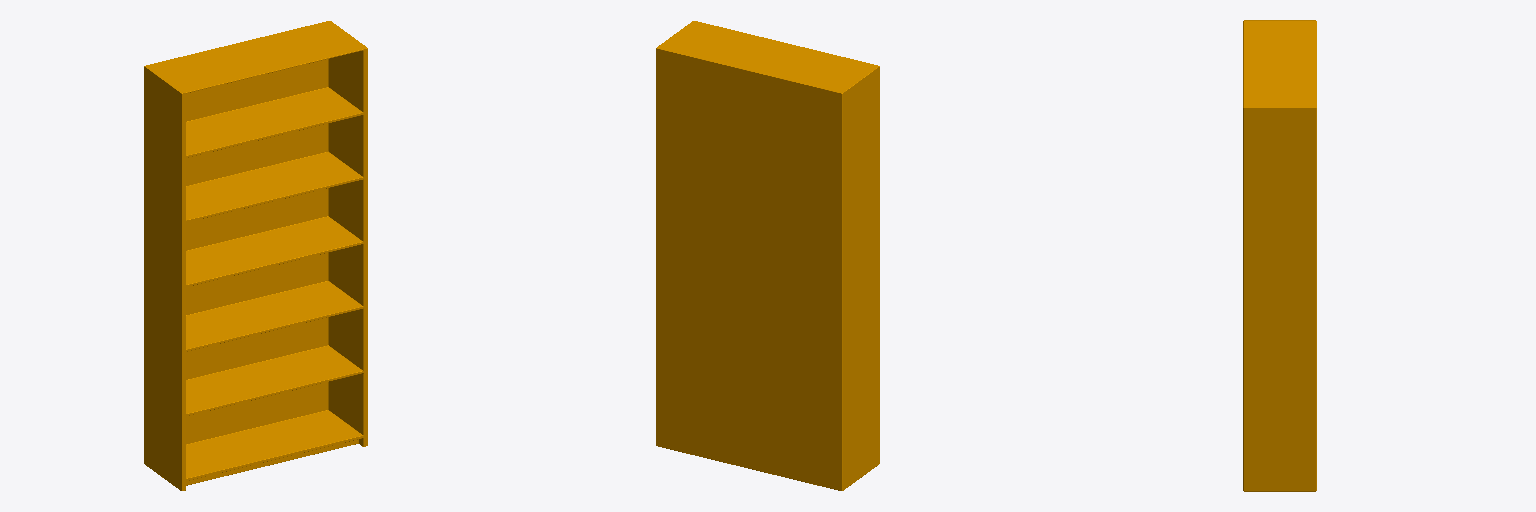
The robot description file, URDF, robot "mesh_object":
<?xml version="1.0" ?>
<robot name="mesh_object">
  <link name="base">
    <visual>
      <geometry>
        <mesh filename="bookcase_3.obj" scale="1 1 1"/>
      </geometry>
    </visual>
    <collision>
      <geometry>
        <mesh filename="bookcase_3.obj" scale="1 1 1"/>
      </geometry>
    </collision>
    <inertial>
      <origin xyz="-0.001004 0.002116 0.104835" rpy="0 0 0"/>
      <mass value="0.5"/>
      <inertia ixx="0.01" iyy="0.01" izz="0.01" ixy="0" ixz="0" iyz="0"/>
    </inertial>
  </link>
</robot>

--- Facts derived from the render (not from the file) ---
3 views of the same robot in one strip: view 1: azimuth 30°, elevation 25°; view 2: azimuth 150°, elevation 25°; view 3: azimuth 270°, elevation 25° (orthographic).
Model mesh_object with 1 links and 0 joints (none), rooted at base, posed all joints at 0.
Visible links, largest first — view 1: base; view 2: base; view 3: base.
Link boxes in pixels (box(x1,y1,x2,y2)): base: box(144, 21, 367, 490); base: box(656, 21, 879, 490); base: box(1243, 20, 1316, 491).
Size in the robot's own frame: 0.1029 by 0.0362 by 0.2097 metres.
1 mesh visuals loaded from 1 distinct referenced files (1 OBJ).
